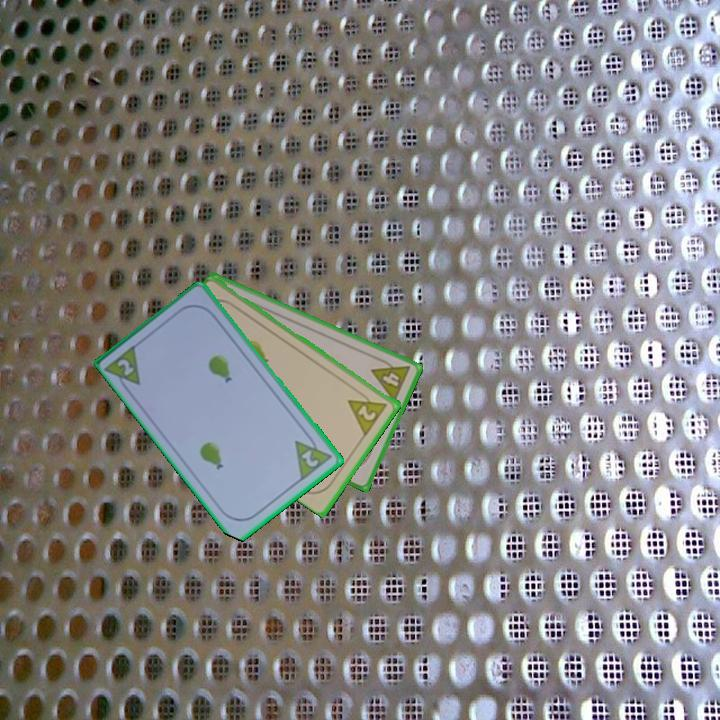2p: (291, 429, 336, 483), (345, 385, 391, 437), (114, 355, 138, 379)
4p: (368, 353, 414, 405)
